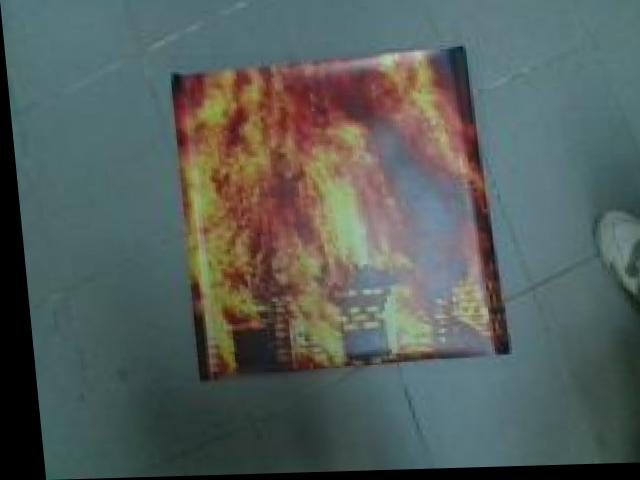fire-poster: (161, 45, 509, 384)
